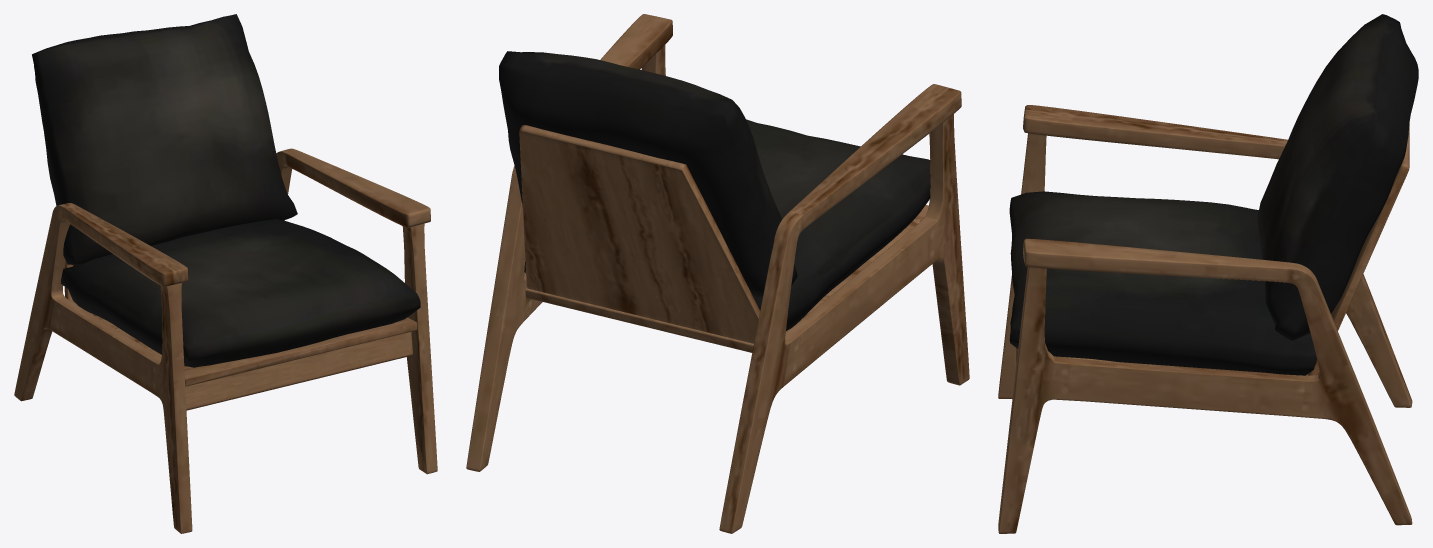
Rendered from modern_arm_chair_01.glb.
3 views of the same model, side by side, from view 1: azimuth 30°, elevation 25°; view 2: azimuth 150°, elevation 25°; view 3: azimuth 270°, elevation 25° (orthographic). The views are drawn at different scales.
Visible parts, largest first — view 1: modern_arm_chair_01; view 2: modern_arm_chair_01; view 3: modern_arm_chair_01.
Part boxes in pixels (left/top/right/bottom): modern_arm_chair_01: left=14, top=14, right=437, bottom=533; modern_arm_chair_01: left=466, top=14, right=969, bottom=533; modern_arm_chair_01: left=998, top=14, right=1418, bottom=533.
Size of the model in its own units: 0.8203 by 1.02 by 0.9865.
Materials: 2 (2 with a texture image).
